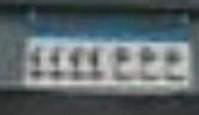4: (60, 46, 85, 83), (46, 43, 65, 79), (27, 47, 45, 81), (88, 46, 105, 82)
ع: (163, 43, 188, 80), (111, 45, 135, 83), (136, 46, 161, 82)
